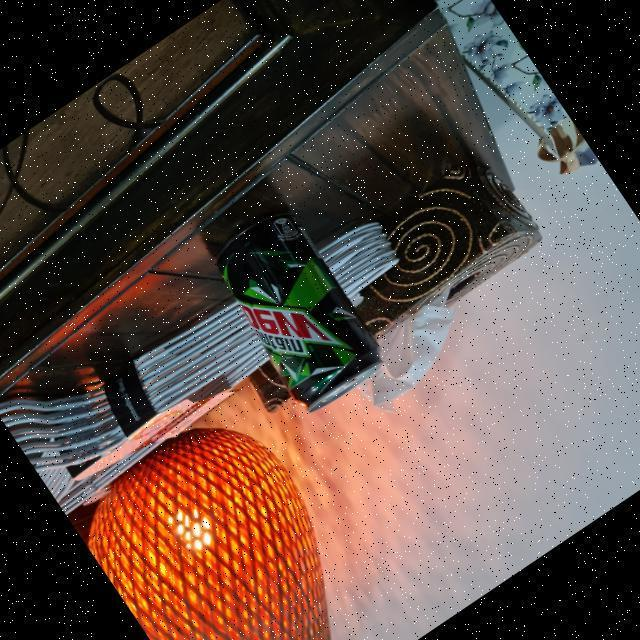can: (196, 203, 400, 428)
